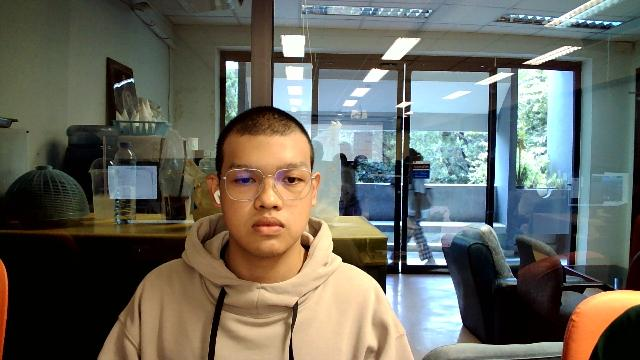fokus: (203, 104, 322, 259)
